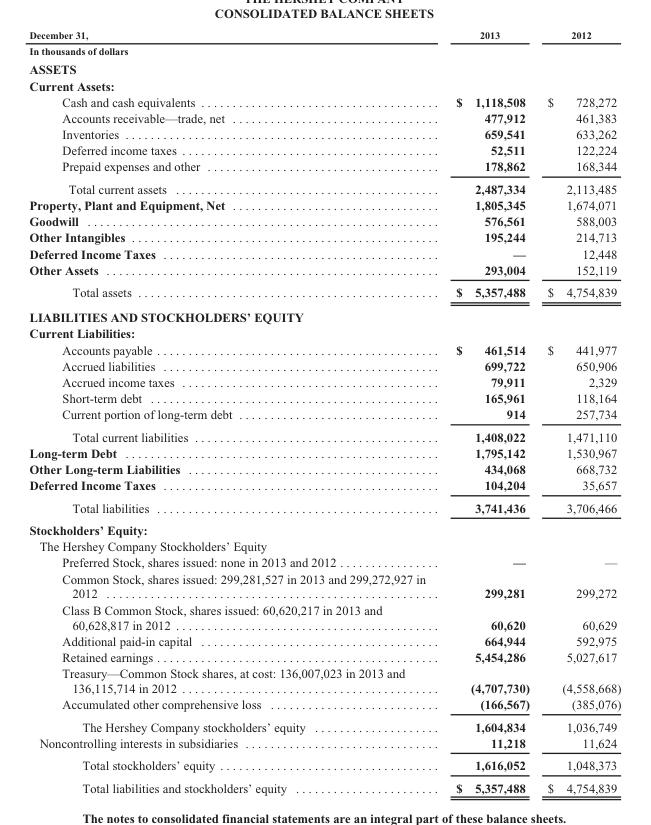table: (28, 29, 620, 794)
table column: (28, 29, 440, 794), (440, 29, 537, 794), (537, 29, 620, 794)
table column header: (28, 29, 620, 42)
table projected row header: (28, 304, 620, 325), (28, 518, 620, 538), (28, 59, 620, 77), (28, 42, 620, 59), (28, 77, 620, 93), (28, 325, 620, 341), (28, 538, 620, 554)
table row: (28, 570, 620, 601), (28, 601, 620, 632), (28, 664, 620, 695), (28, 280, 620, 304), (28, 753, 620, 776), (28, 496, 620, 518), (28, 304, 620, 325), (28, 405, 620, 425), (28, 476, 620, 496), (28, 518, 620, 538), (28, 695, 620, 715), (28, 158, 620, 177), (28, 177, 620, 196), (28, 261, 620, 280), (28, 425, 620, 444), (28, 715, 620, 734), (28, 734, 620, 753), (28, 59, 620, 77), (28, 776, 620, 794), (28, 42, 620, 59), (28, 141, 620, 158), (28, 212, 620, 229), (28, 77, 620, 93), (28, 93, 620, 109), (28, 109, 620, 125), (28, 125, 620, 141), (28, 196, 620, 212), (28, 229, 620, 245), (28, 245, 620, 261), (28, 325, 620, 341), (28, 341, 620, 357), (28, 357, 620, 373), (28, 373, 620, 389), (28, 389, 620, 405), (28, 444, 620, 460), (28, 460, 620, 476), (28, 538, 620, 554), (28, 554, 620, 570), (28, 632, 620, 648), (28, 648, 620, 664), (28, 29, 620, 42)
